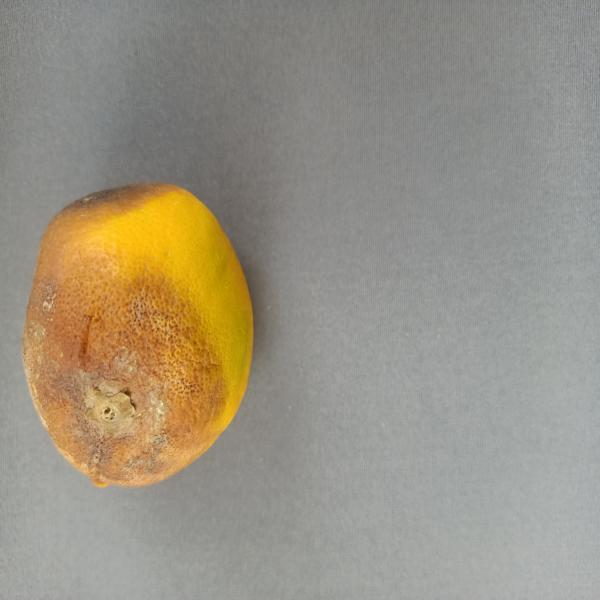Scab: (20, 167, 264, 494)
